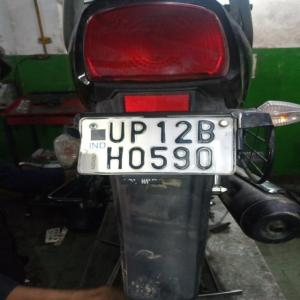Plate: (78, 116, 236, 175)
